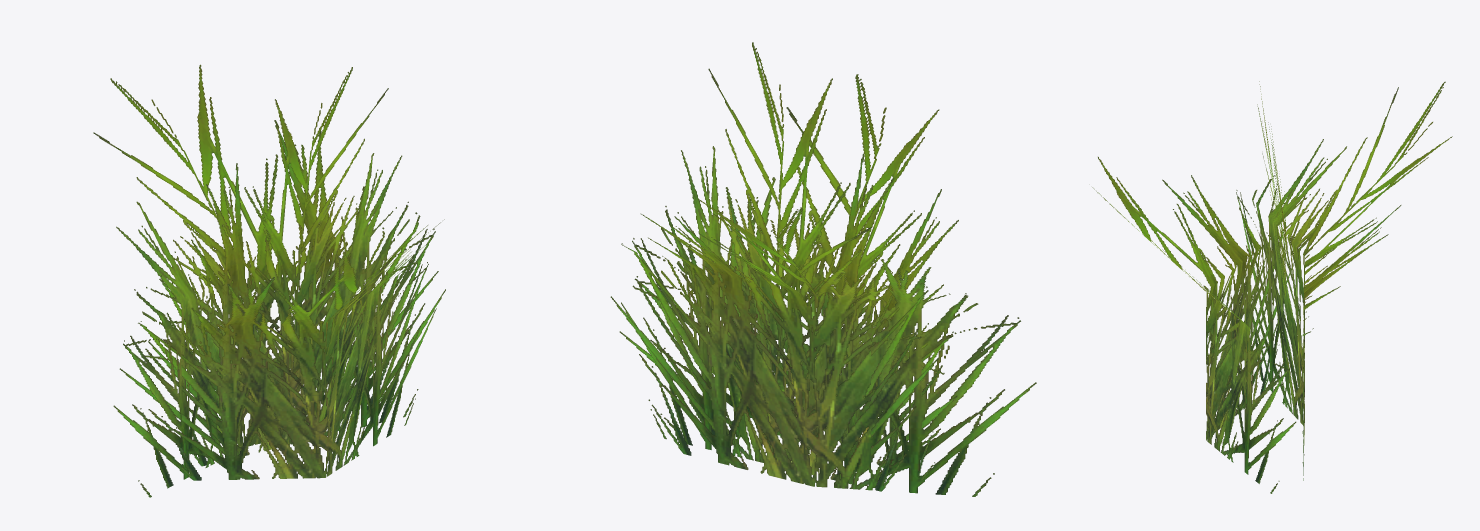
Rendered from obj_macoprgr5.glb.
The picture shows the model from 3 angles, left to right: view 1: azimuth 30°, elevation 25°; view 2: azimuth 150°, elevation 25°; view 3: azimuth 270°, elevation 25°; orthographic projection. The views are drawn at different scales.
Parts seen in each view (by area): view 1: part_0; view 2: part_0; view 3: part_0.
Part boxes in pixels (left/top/right/bottom): part_0: left=93, top=64, right=445, bottom=497; part_0: left=610, top=42, right=1036, bottom=496; part_0: left=1092, top=81, right=1452, bottom=493.
Size of the model in its own units: 1.18 by 1.13 by 1.13.
1 material, 1 textured.
